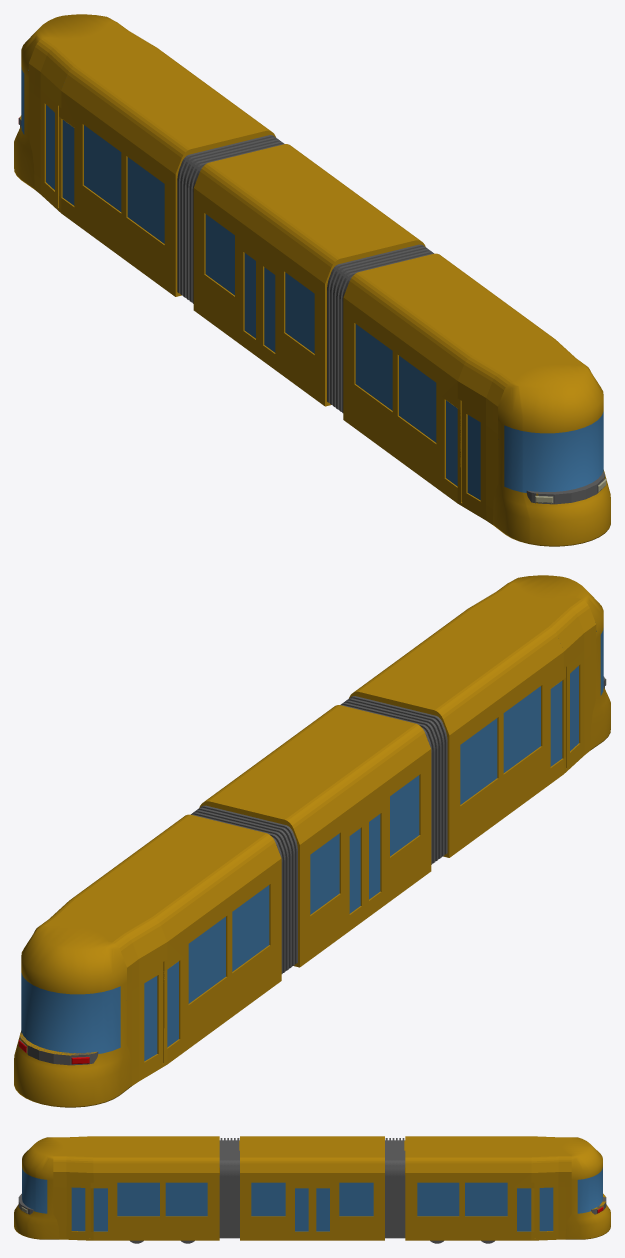
The model's file is tram.obj.
3 views of the same model, one above another, from view 1: azimuth 30°, elevation 25°; view 2: azimuth 150°, elevation 25°; view 3: azimuth 270°, elevation 25° (orthographic). The views are drawn at different scales.
Parts seen in each view (by area): view 1: tram_Cylinder.003_bodyColor, tram_Cylinder.003_windows, tram_Cylinder.003_metal; view 2: tram_Cylinder.003_bodyColor, tram_Cylinder.003_windows, tram_Cylinder.003_metal; view 3: tram_Cylinder.003_bodyColor, tram_Cylinder.003_windows, tram_Cylinder.003_metal.
Part boxes in pixels (bbox=[...]): tram_Cylinder.003_bodyColor: bbox=[14, 14, 610, 546]; tram_Cylinder.003_windows: bbox=[21, 67, 603, 500]; tram_Cylinder.003_metal: bbox=[19, 117, 605, 504]; tram_Cylinder.003_bodyColor: bbox=[14, 575, 610, 1107]; tram_Cylinder.003_windows: bbox=[21, 628, 603, 1061]; tram_Cylinder.003_metal: bbox=[19, 676, 605, 1065]; tram_Cylinder.003_bodyColor: bbox=[14, 1136, 610, 1240]; tram_Cylinder.003_windows: bbox=[22, 1167, 602, 1231]; tram_Cylinder.003_metal: bbox=[18, 1138, 606, 1243].
Size of the model in its own units: 1.2 by 1.71 by 10.56.
